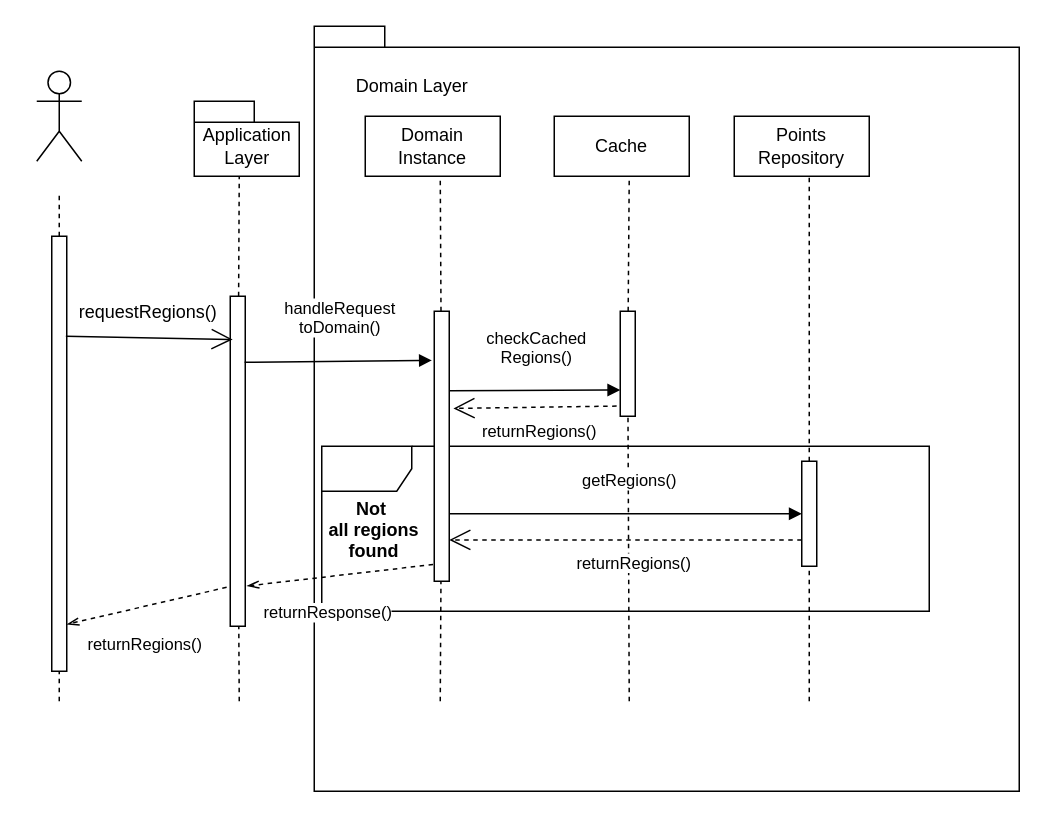
This 1046x818 diagram has some shape labels left out. The box of each missing label's shape, as (x1, y1, x2, y2) in pixels:
alt: (320, 445, 929, 611)
Browser: (35, 70, 82, 161)
